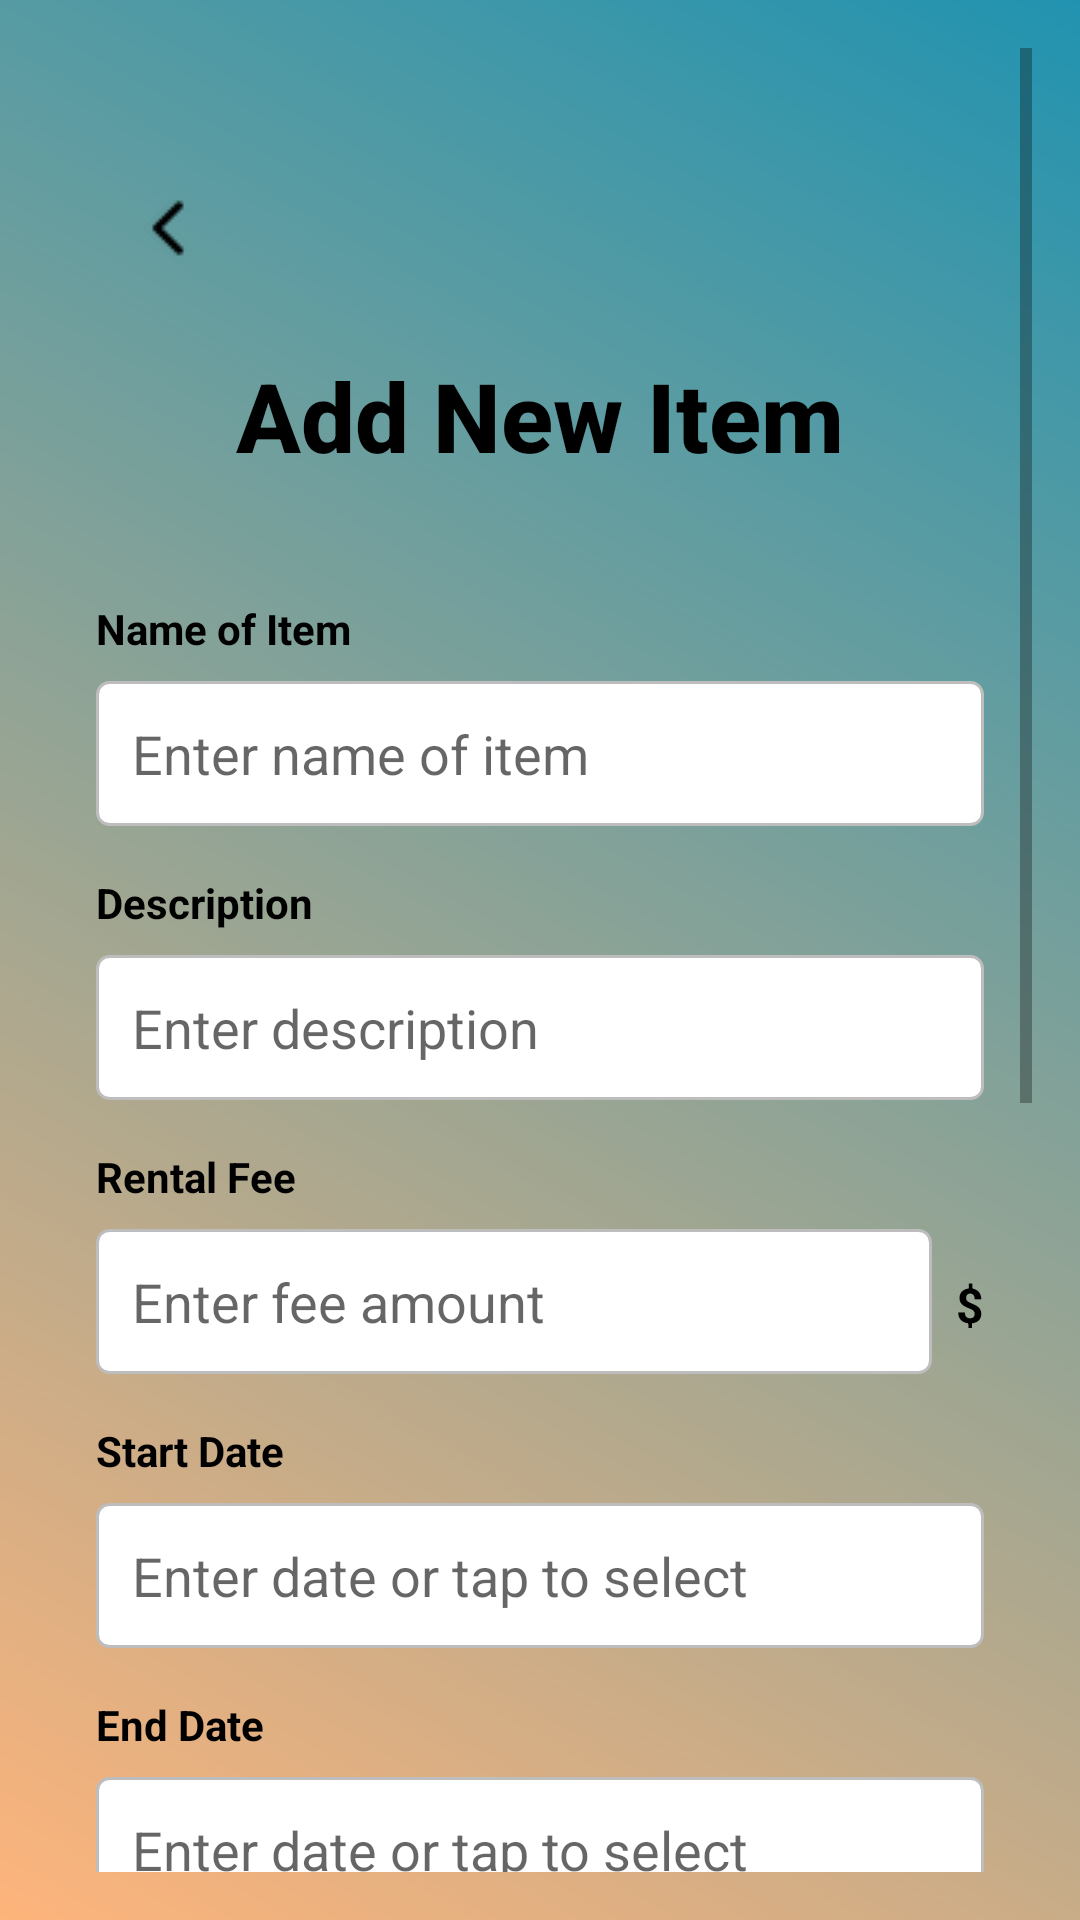

Named icons in this screenshot (1080px×1920px) and their centers, point (x, y):
Back: point (168, 228)
